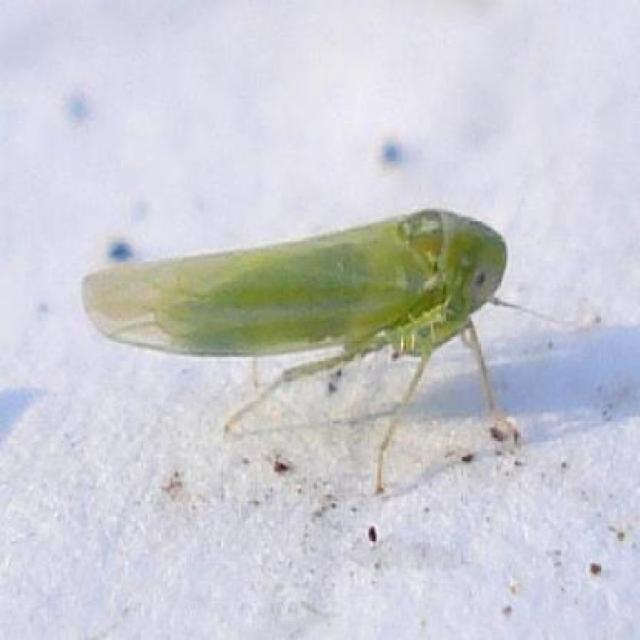green-leafhopper: (78, 210, 510, 372)
